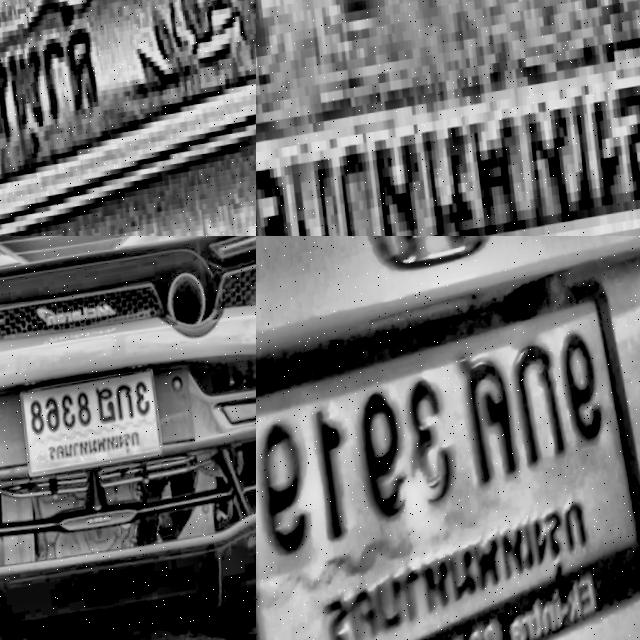license-plate: (256, 301, 638, 640), (256, 0, 640, 236), (0, 0, 256, 236), (14, 370, 159, 481)
